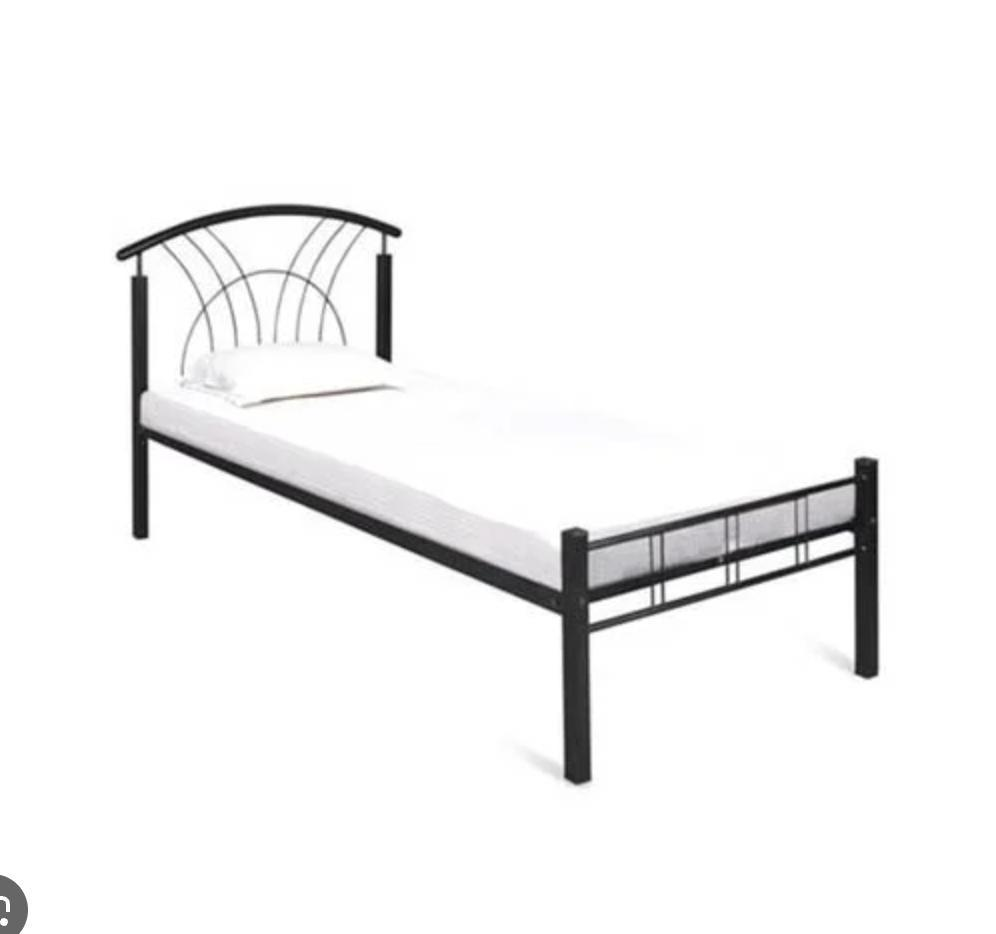Bed-Mattress: (439, 0, 926, 811), (99, 189, 600, 812)
